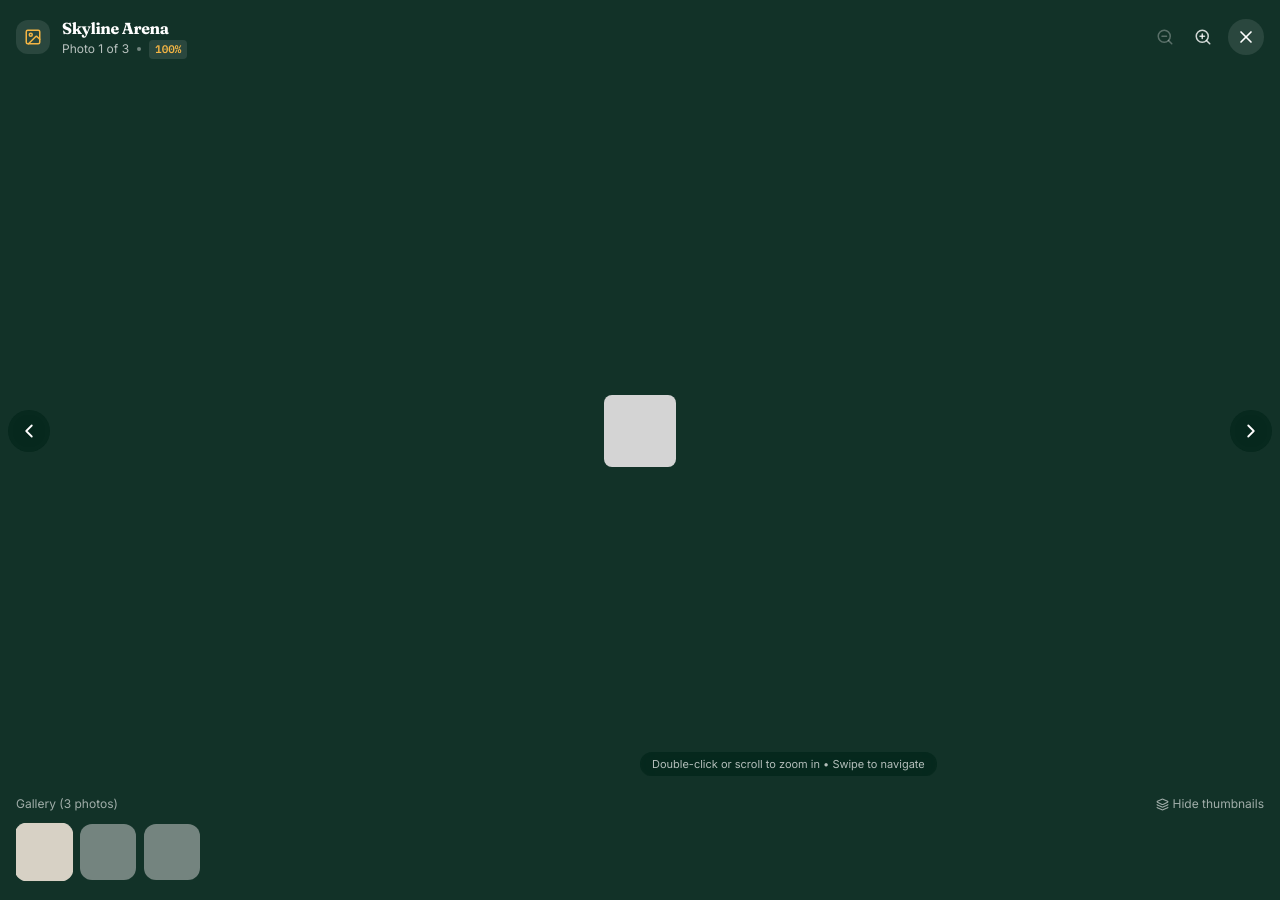
Test case: VenueImageLightbox component › handles zoom in, zoom out, and reset zoom
Expected: the text "100%" is shown, [149,40,187,59]
Expected: the button "reset zoom" is not shown
Click the button named "zoom in" at [1203, 37], box [1186,20,1220,54]
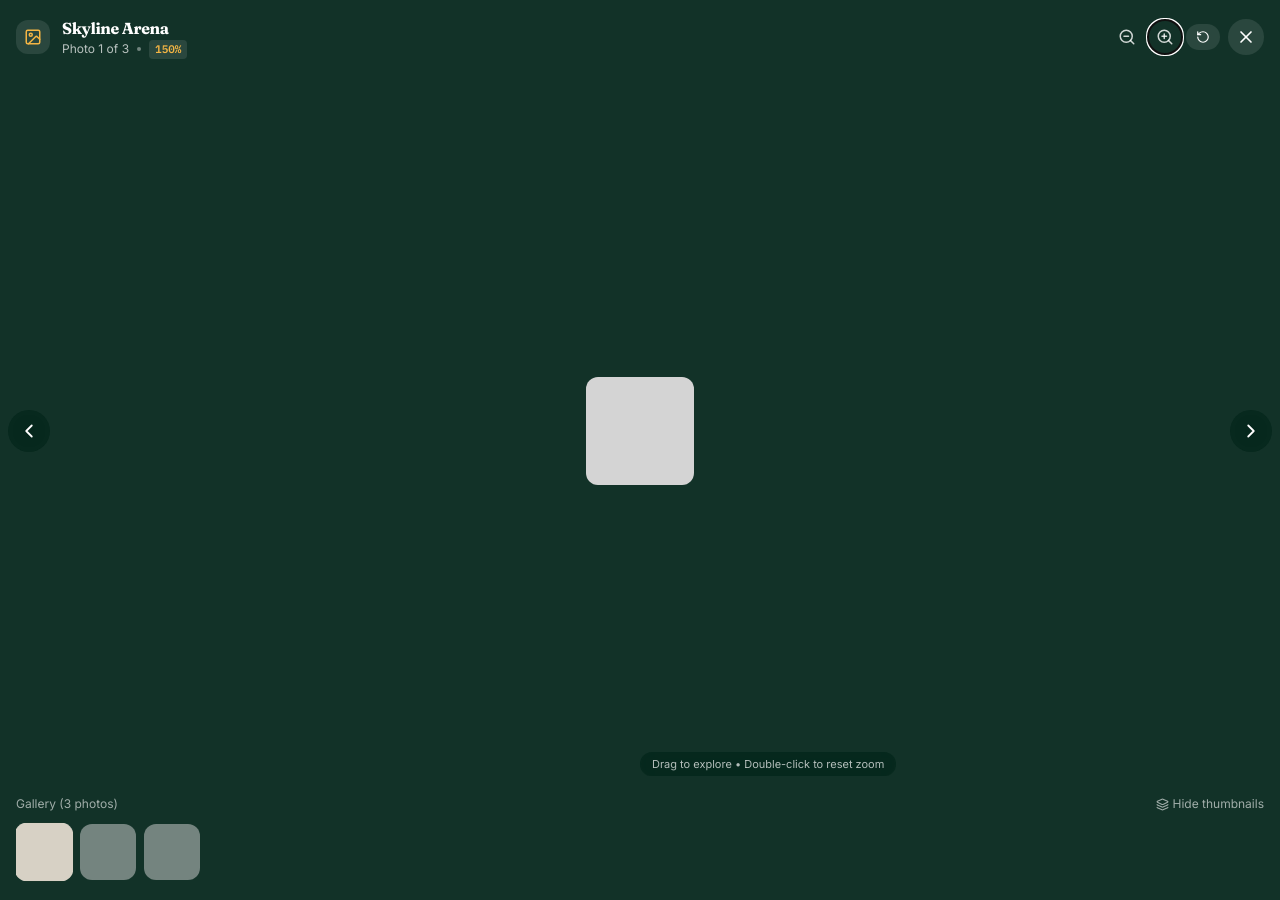
Expected: the text "150%" is shown, [149,40,187,59]
Expected: the button named "reset zoom" is shown, [1186,24,1220,50]
Click the button named "zoom in" at [1165, 37], box [1148,20,1182,54]
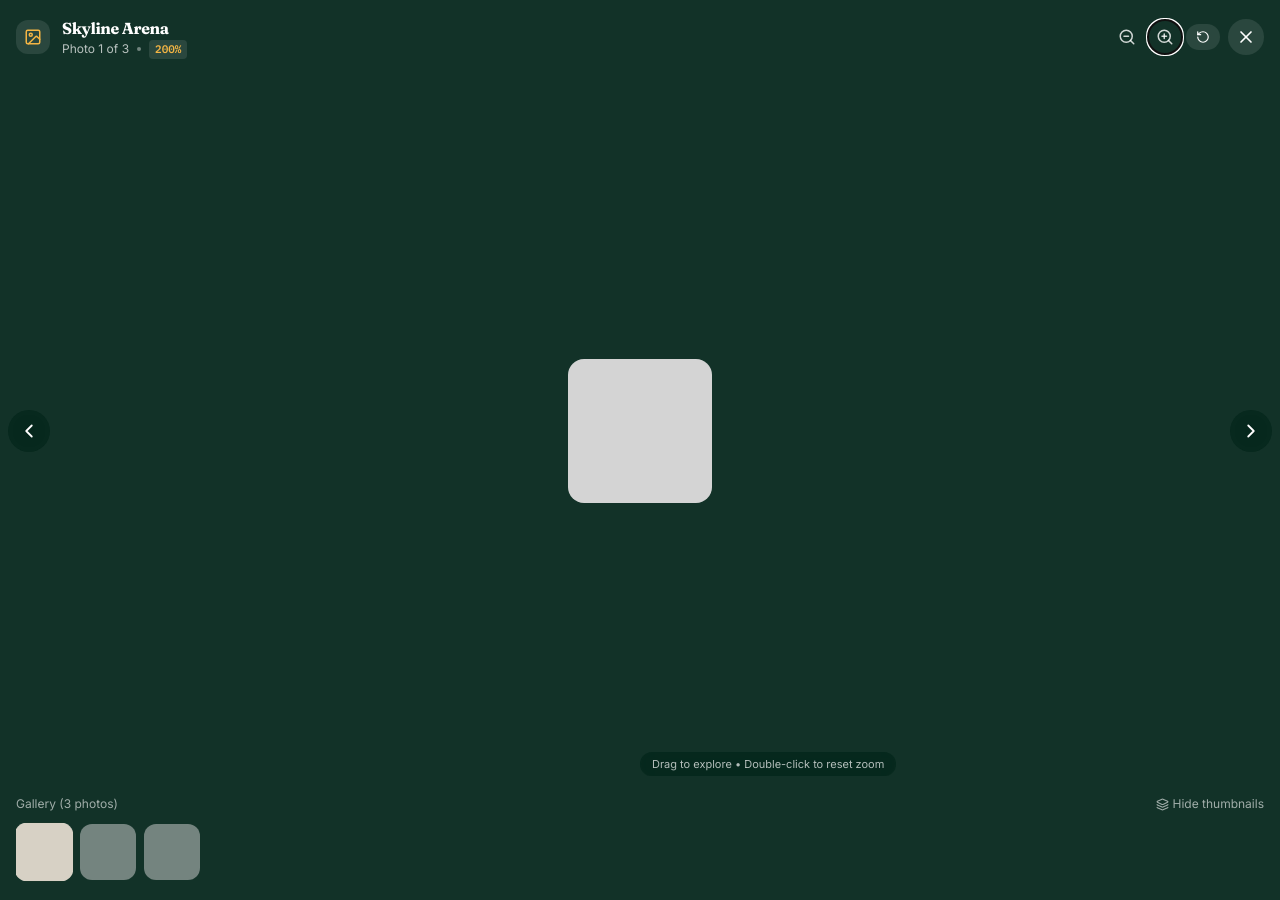
Expected: the text "200%" is shown, [149,40,187,59]
Click the button named "zoom out" at [1127, 37], box [1110,20,1144,54]
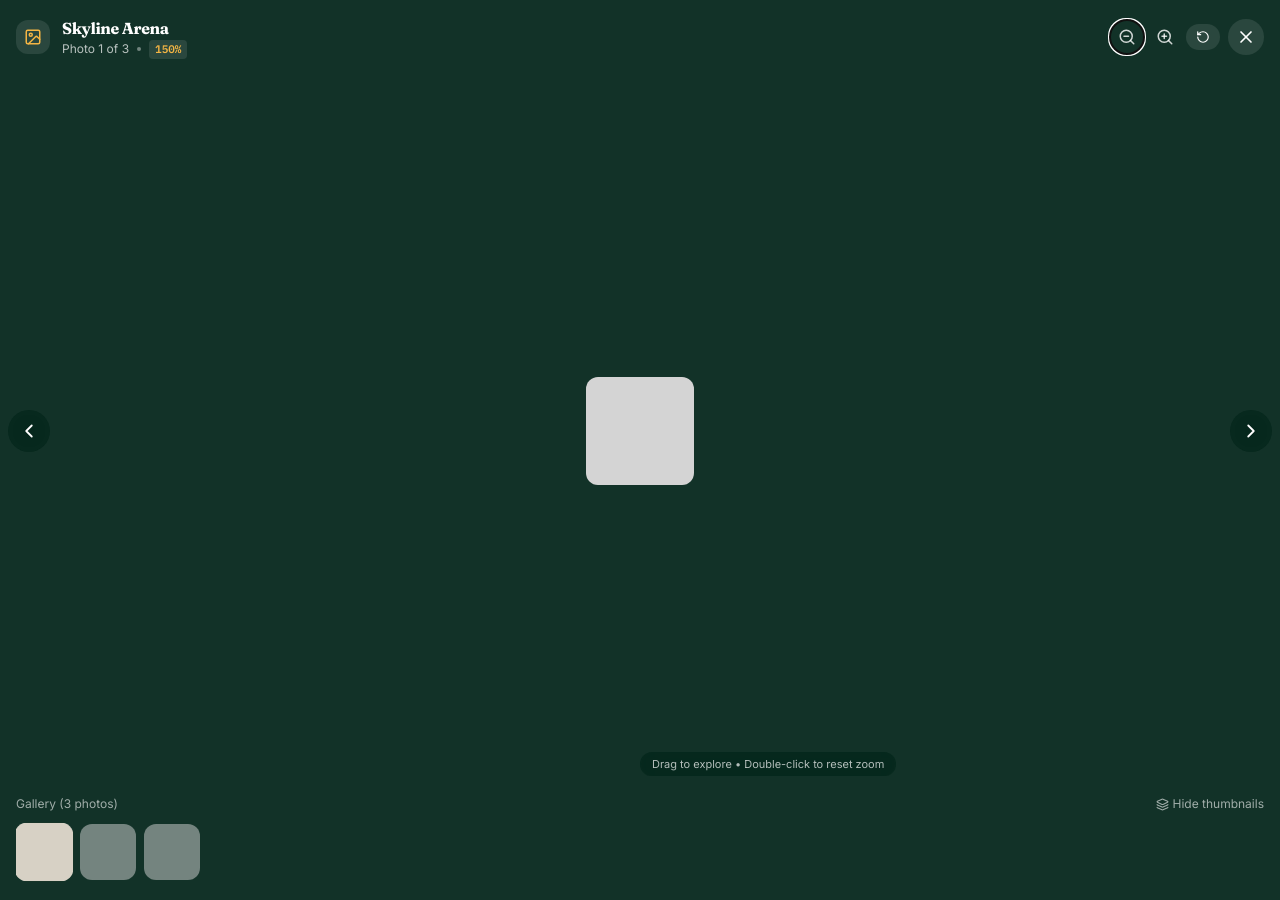
Expected: the text "150%" is shown, [149,40,187,59]
Click the button named "reset zoom" at [1203, 37], box [1186,24,1220,50]
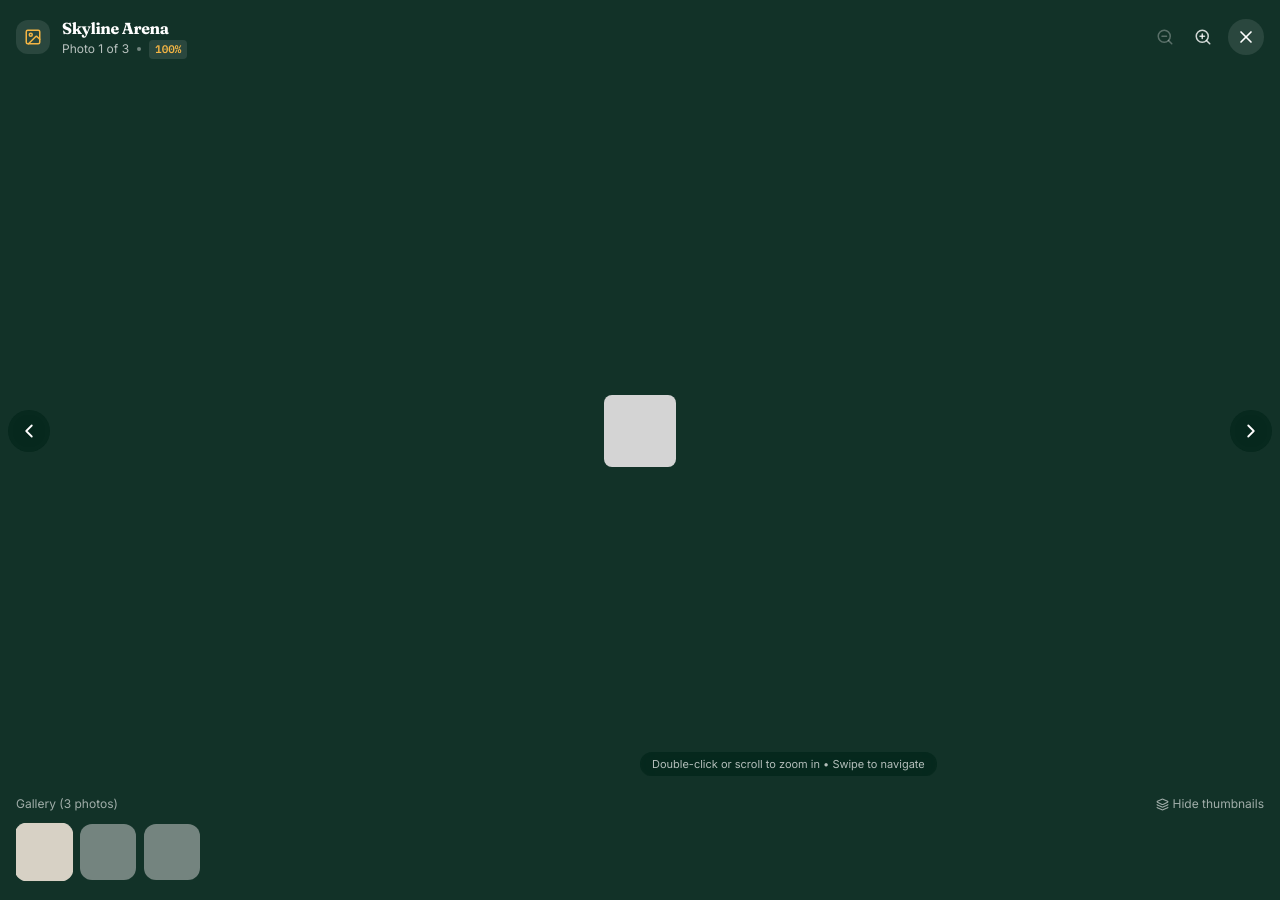
Expected: the text "100%" is shown, [149,40,187,59]
